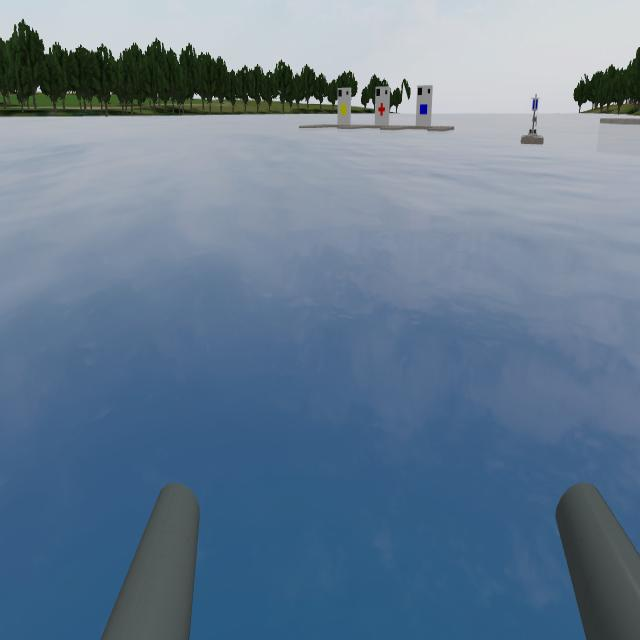blue_pole: (528, 90, 542, 117)
